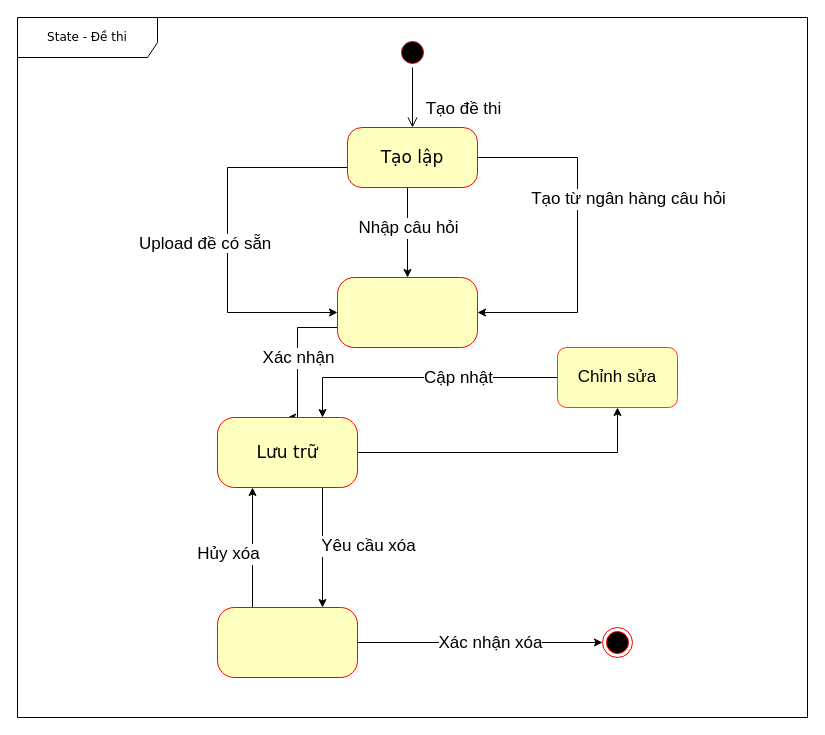
The diagram is 825 pixels wide and 735 high, and some of its shapes have lost their labels. Here are the shapes that lost their labels. From the top down, the centre of each, then its label:
[407,312]: Đang tạo
[287,642]: Chờ để xóa
